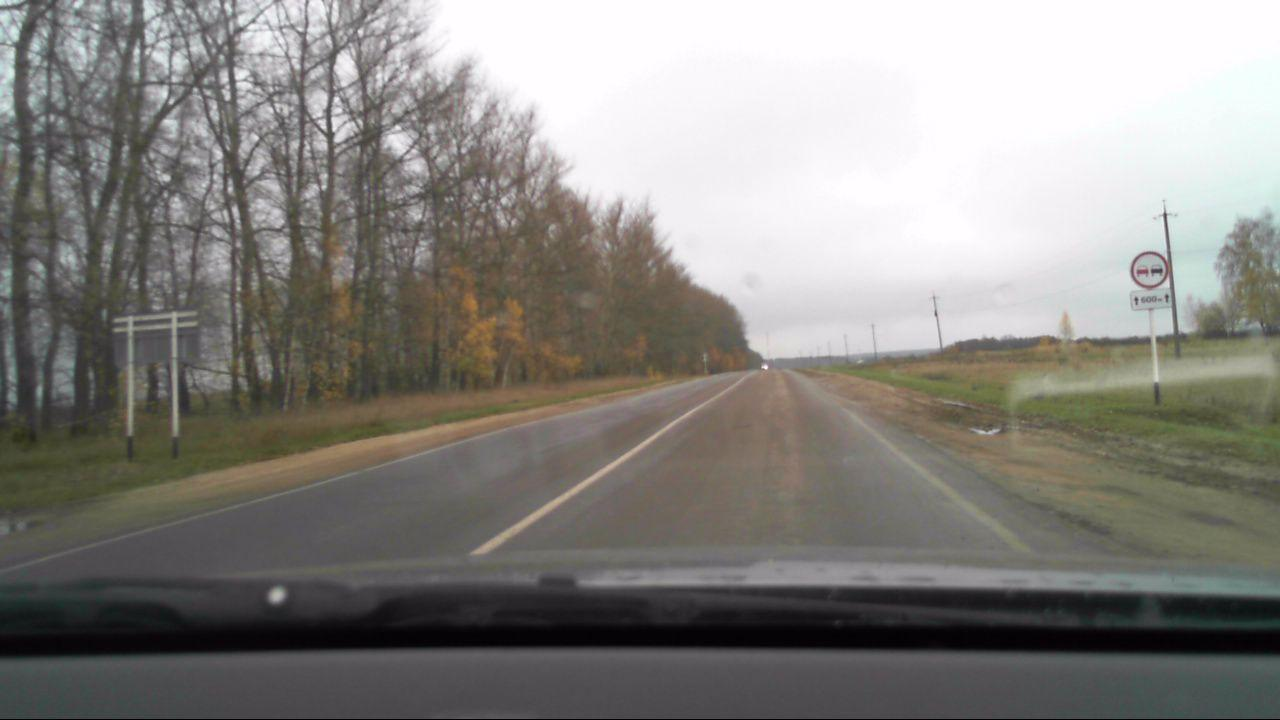3_20: (1129, 249, 1169, 287)
8_2_1: (1130, 289, 1175, 311)
